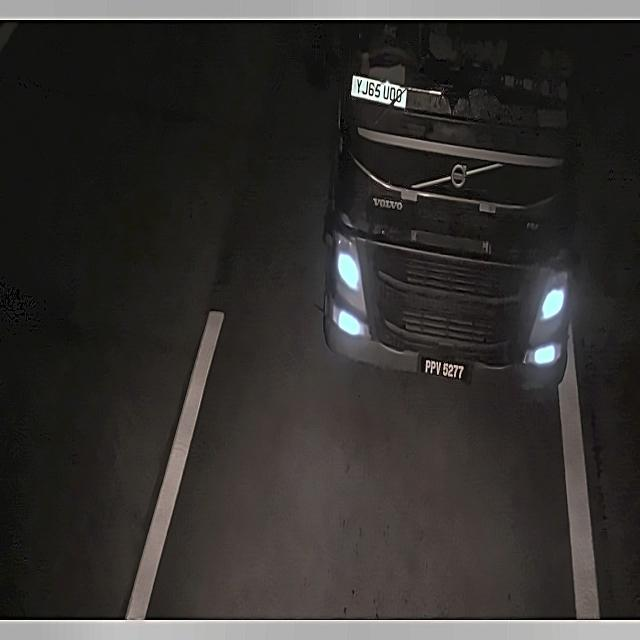car: (415, 348, 475, 388)
